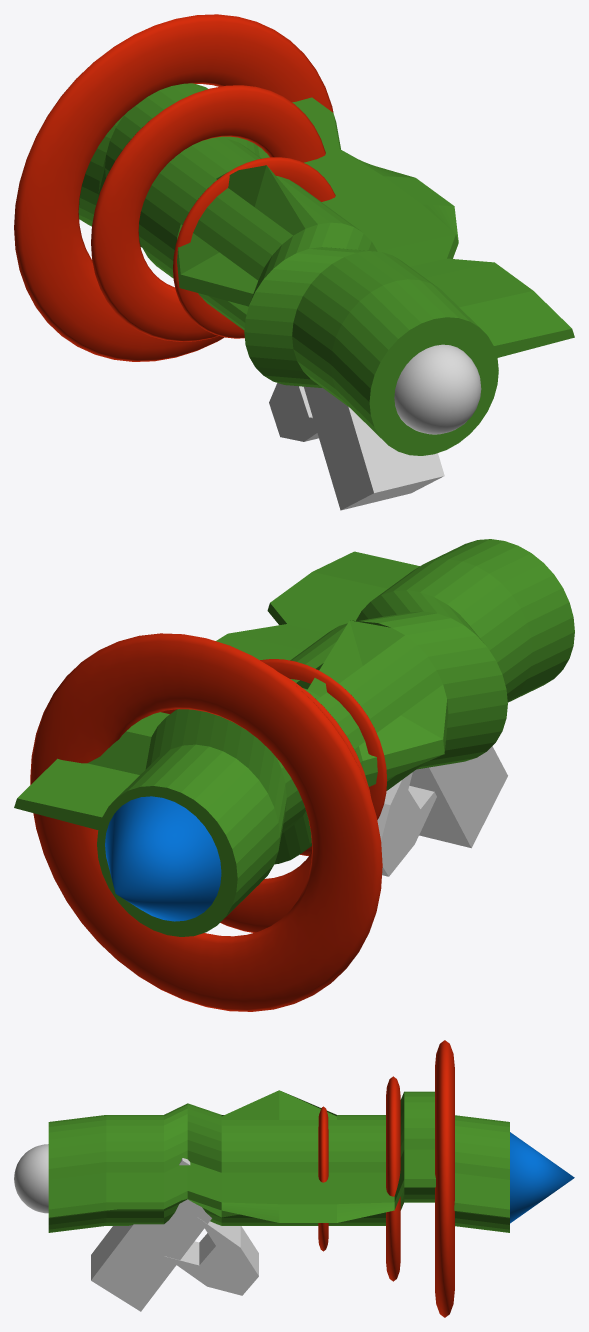
The model's file is chromolatchersnatcher2.fbx.
3 renders of one model, top to bottom at view 1: azimuth 30°, elevation 25°; view 2: azimuth 150°, elevation 25°; view 3: azimuth 270°, elevation 25°, orthographic. The views are drawn at different scales.
Visible parts, largest first — view 1: Cylinder, Torus, Cube, Sphere, Cube.001; view 2: Cylinder, Torus, Cone, Cube, Cube.001; view 3: Cylinder, Torus, Cube, Cube.001, Cone, Sphere.
Part boxes in pixels (bbox=[...]): Cylinder: bbox=[78, 83, 574, 455]; Torus: bbox=[14, 14, 335, 361]; Cube: bbox=[304, 386, 444, 510]; Sphere: bbox=[394, 344, 481, 434]; Cube.001: bbox=[269, 383, 318, 441]; Cylinder: bbox=[14, 539, 574, 936]; Torus: bbox=[30, 633, 387, 1011]; Cone: bbox=[105, 796, 221, 921]; Cube: bbox=[409, 746, 507, 848]; Cube.001: bbox=[377, 772, 436, 876]; Cylinder: bbox=[48, 1090, 509, 1232]; Torus: bbox=[318, 1040, 454, 1317]; Cube: bbox=[91, 1158, 211, 1311]; Cube.001: bbox=[164, 1217, 258, 1295]; Cone: bbox=[510, 1132, 574, 1223]; Sphere: bbox=[14, 1144, 48, 1213].
Bounding box in the file's own units: 509 × 501 × 1010.
